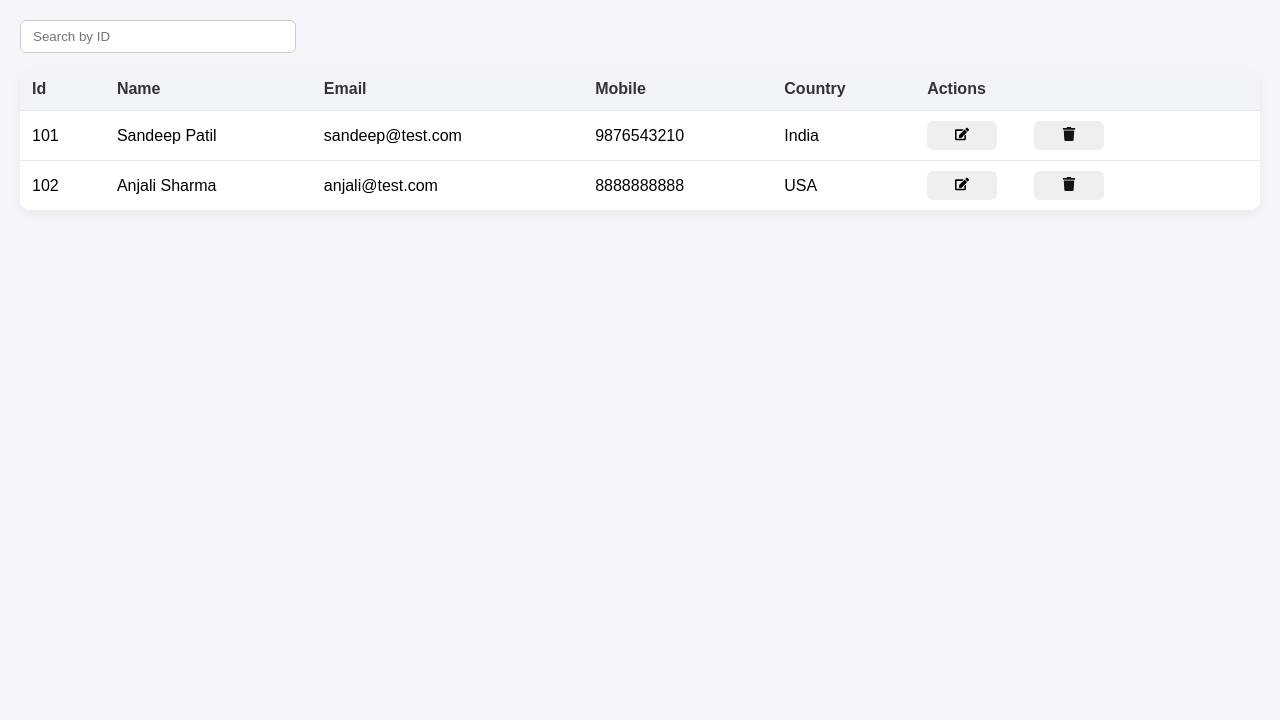
Test case: EmployeeTable Component › opens ConfirmDialog when delete button is clicked
Click the button titled "Delete" in the row of "101": (1069, 136) [1034,121,1104,150]
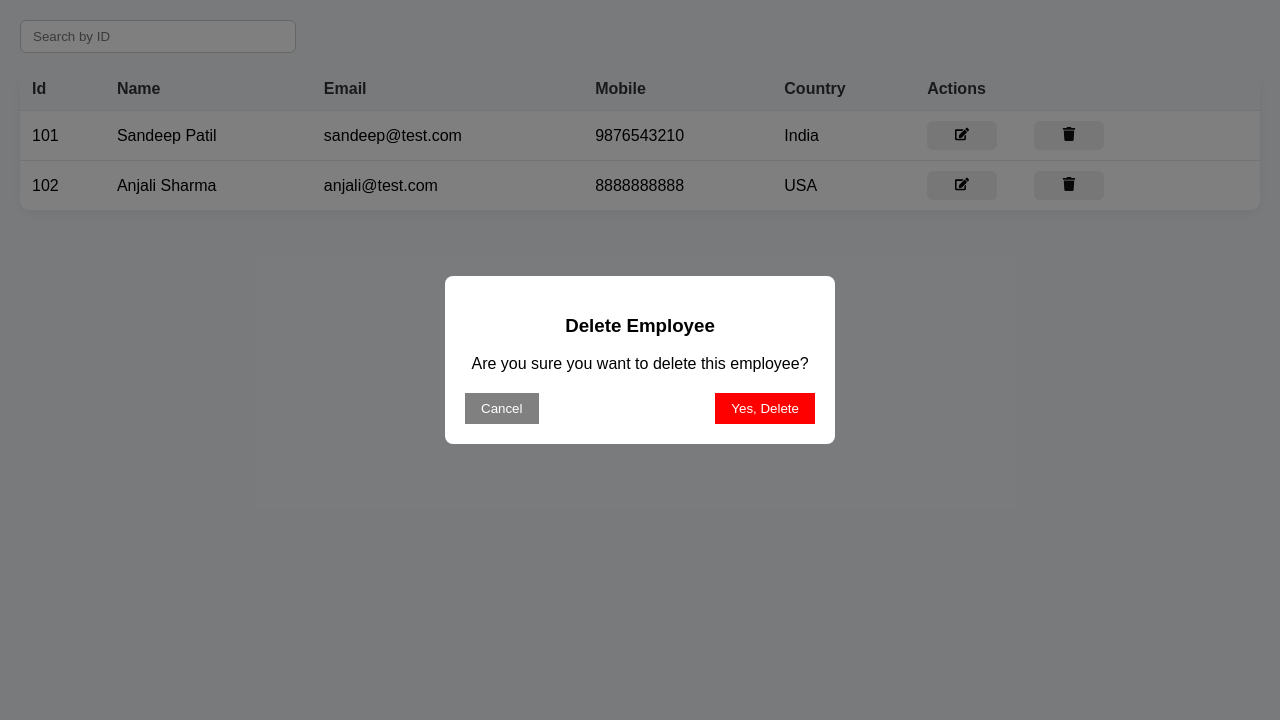
Expected: the text "Are you sure you want to delete this employee?" is shown, [465,355,815,373]
